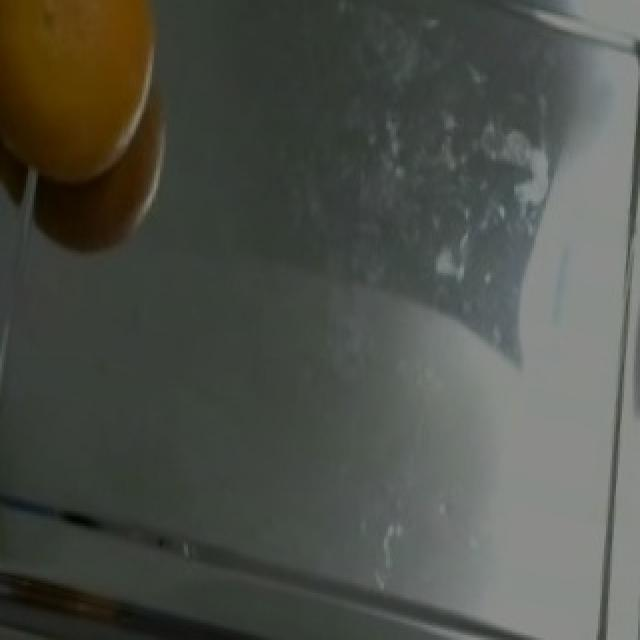Fruit: (0, 0, 186, 206)
